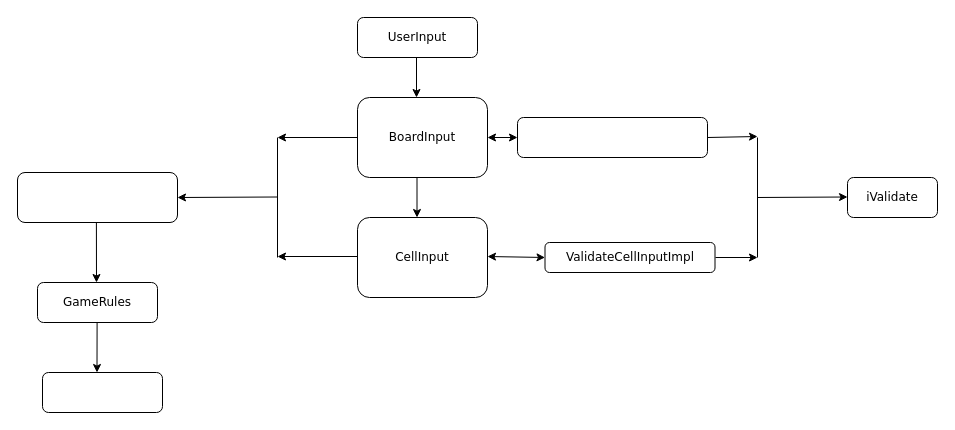
Image size: 955x430. Some labels were removed from this diagram. The shapes that lost their labels are listed below. From the top down, each one's centre as x and y in pixels, then its label:
At point (612, 137): "BoardValidateUserInputImpl".
At point (97, 197): "GameBoard".
At point (102, 392): "Minesweeper".
